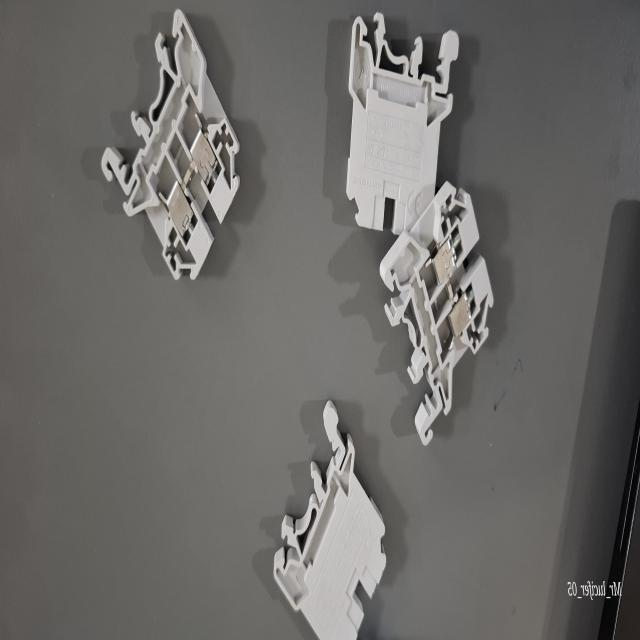Inverted: (315, 0, 483, 239), (260, 392, 409, 640)
Pass: (90, 12, 253, 318), (374, 182, 520, 472)
